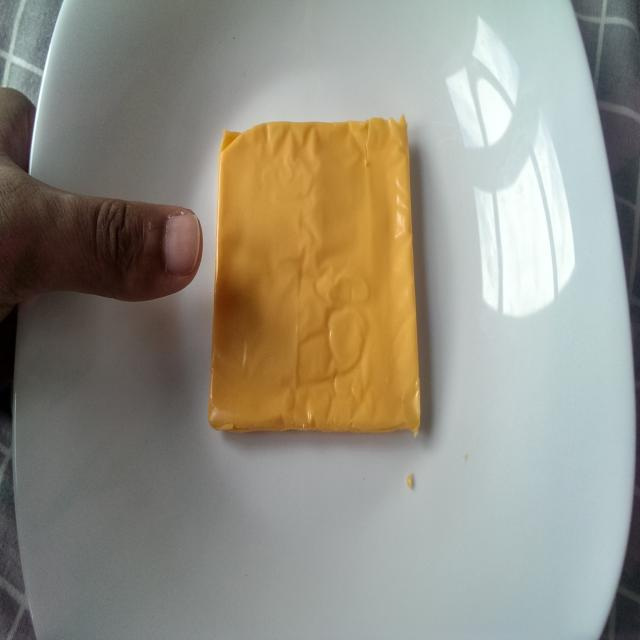Cheese: (203, 110, 433, 454)
Finger: (71, 176, 210, 314)
